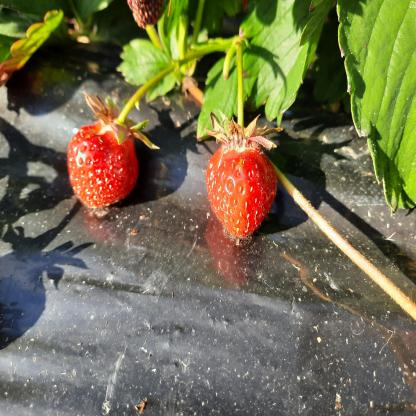ripe: (69, 118, 137, 206), (208, 146, 268, 232)
